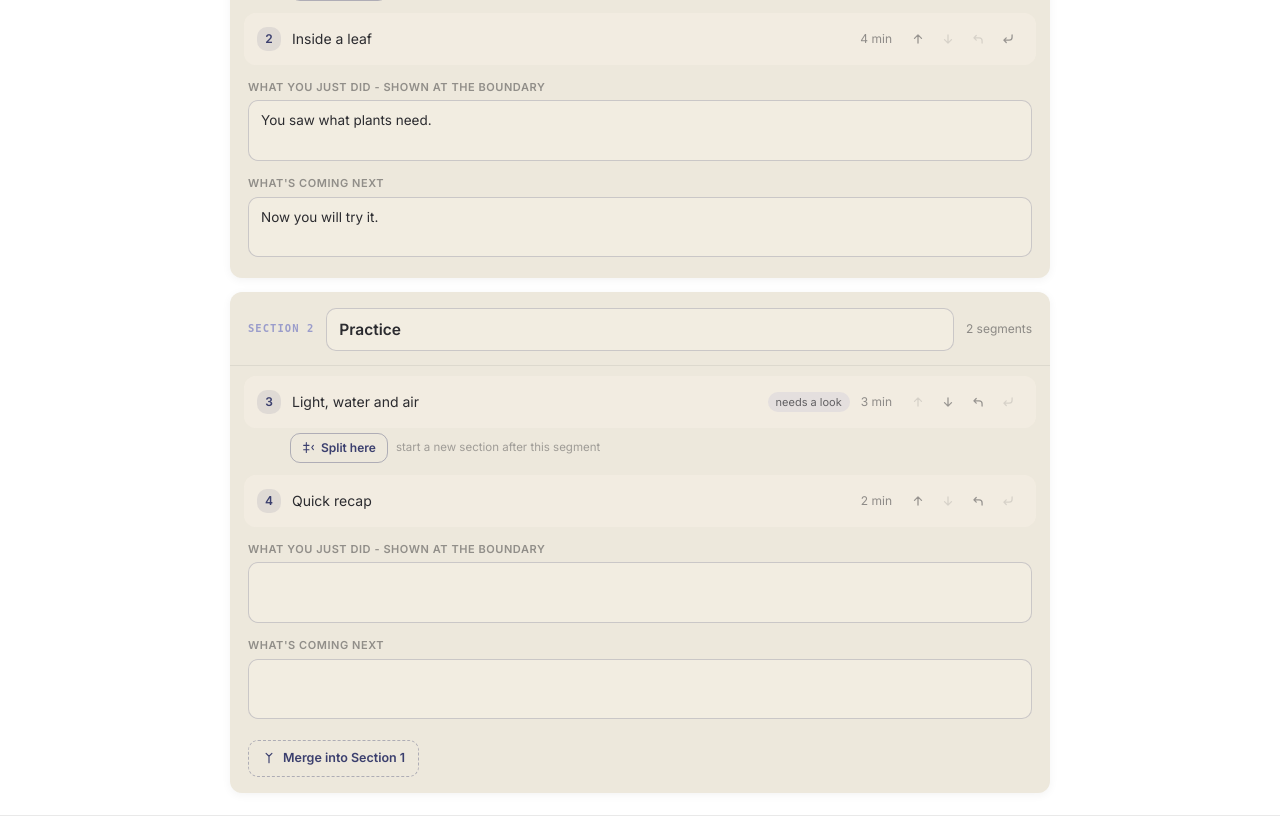
Test: reset › restores what Nevo proposed
The image size is (1280, 832).
(page scrolled)
Step 1. Click the button "Merge into Section 1" → (334,758), box [248,740,419,777]
(page scrolled)
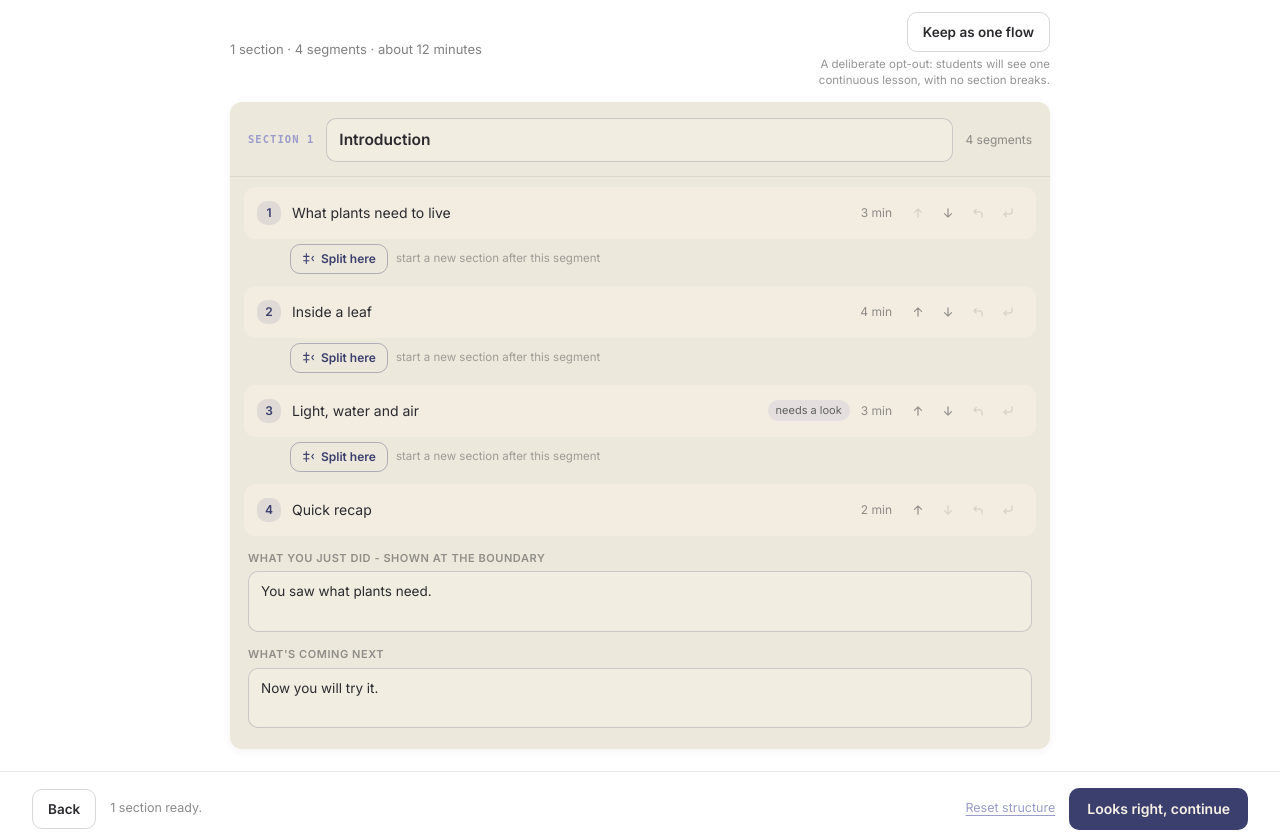
expect the field showing "Practice" is not shown: met
Step 2. Click the button "Reset structure" → (1010,809), box [965,799,1055,818]
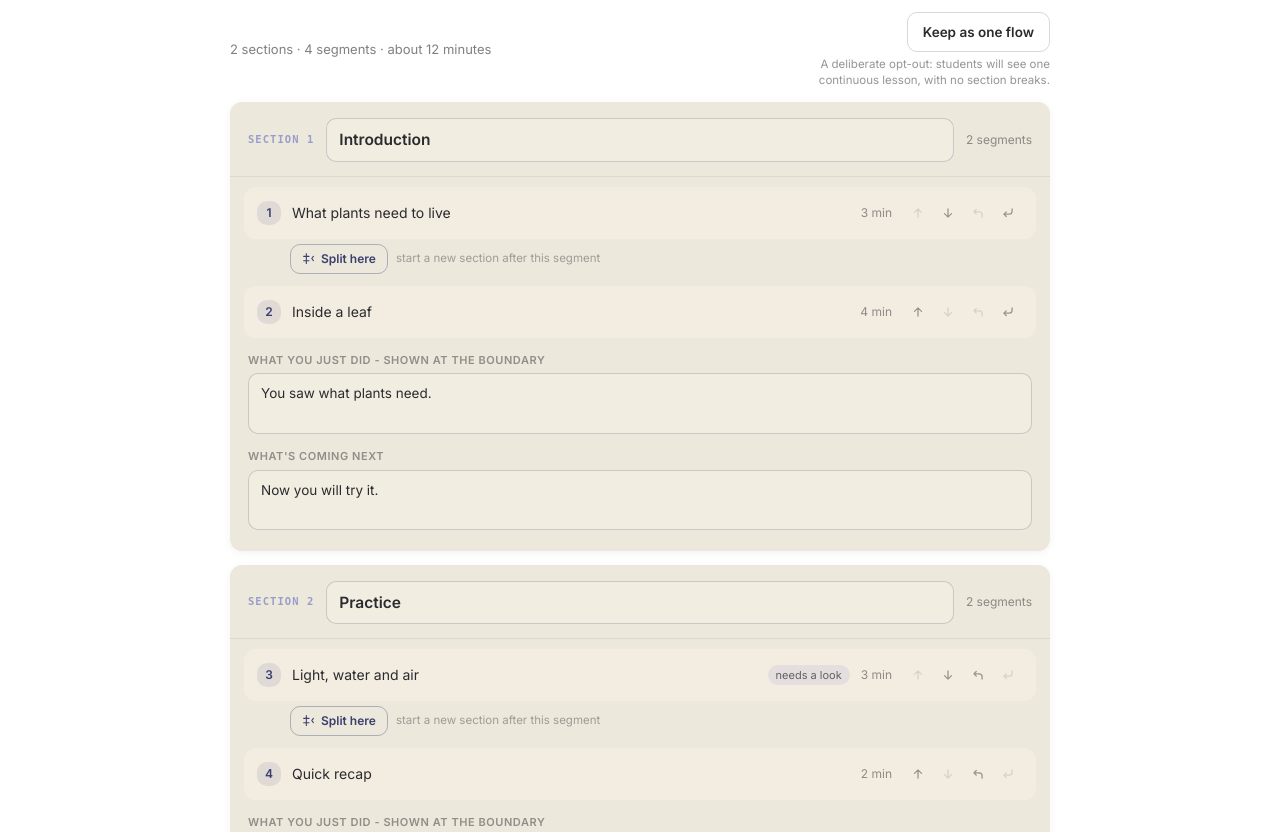
expect the field showing "Practice" is shown: met, box [326,581,954,624]
